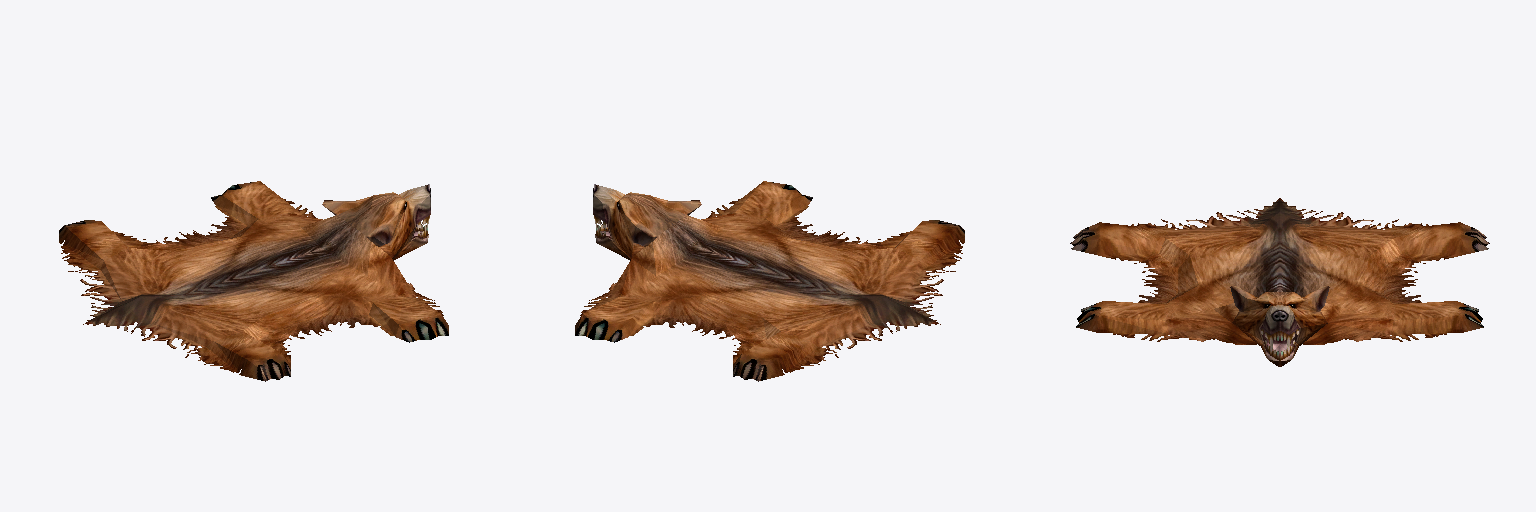
3 views of the same model, side by side, from view 1: azimuth 30°, elevation 25°; view 2: azimuth 150°, elevation 25°; view 3: azimuth 270°, elevation 25° (orthographic).
Visible parts, largest first — view 1: generalbearskinrug01; view 2: generalbearskinrug01; view 3: generalbearskinrug01.
Boxes of the visible parts, box(x1,y1,x2,y2) form: generalbearskinrug01: box(59, 181, 448, 381); generalbearskinrug01: box(575, 181, 964, 381); generalbearskinrug01: box(1070, 198, 1489, 366).
Size of the model in its own units: 5.58 by 0.8969 by 5.79.
Materials: 1 (1 with a texture image).